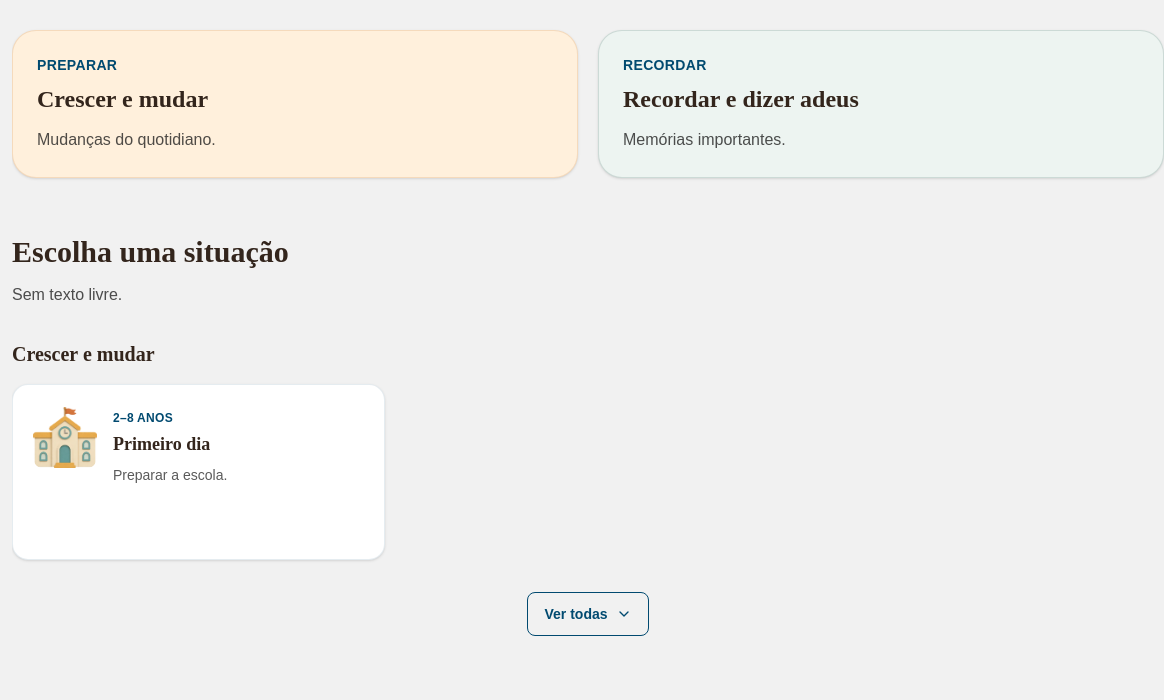
it: LandingPageSupportHub › shows priority challenges, expands the full catalogue, and preserves safe intent routing
(page scrolled)
Expected: the link "Recordar um animal" is not shown
What coordinates should you click on to do the following:
click the button "Ver todas"
I would click on:
 (588, 614)
Its box is [528,592,648,636].
(page scrolled)
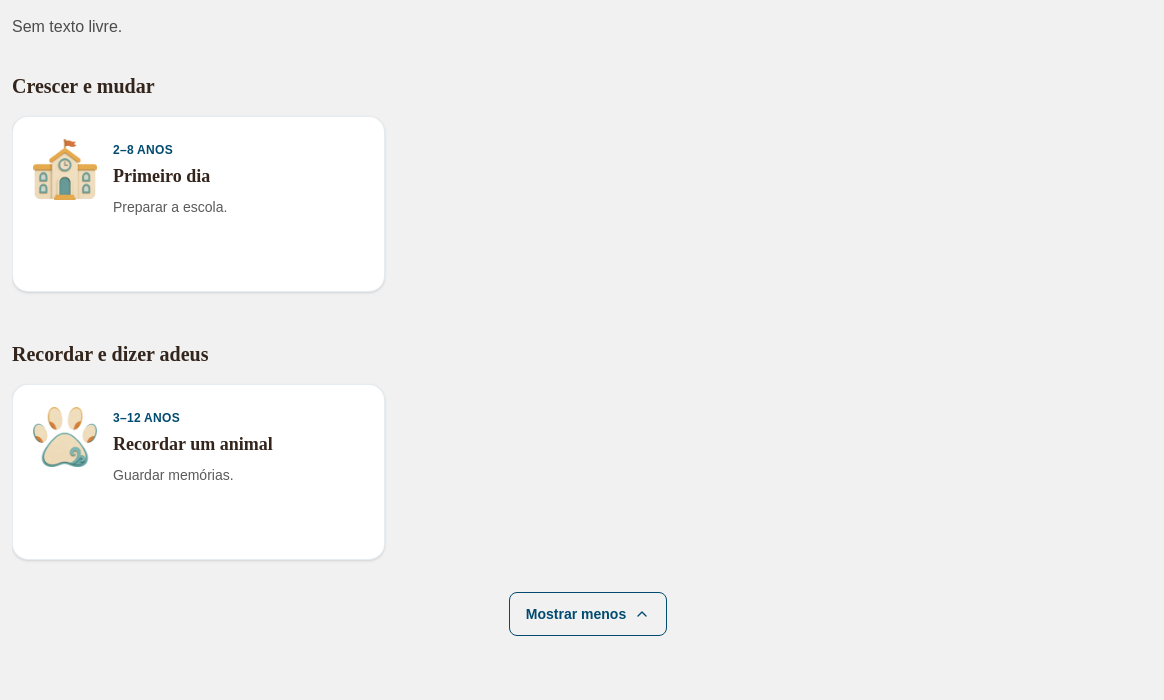
Result: the button "Mostrar menos" is expanded at [509,592,667,636]
